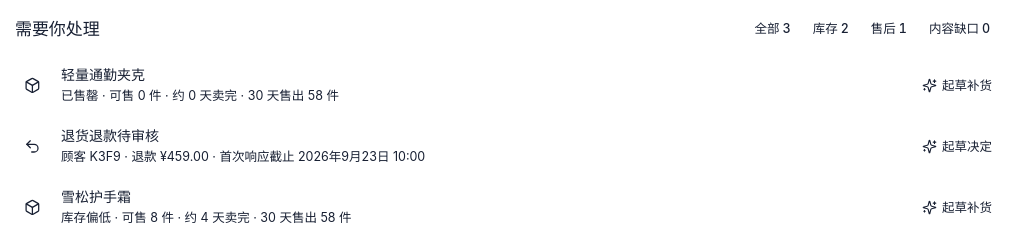
Test case: HomeAttention › 某一类没有事项时显示空态
Click the button with test id "attention-filter-gap".
click(959, 29)  # box x1=919 y1=16 x2=1000 y2=42
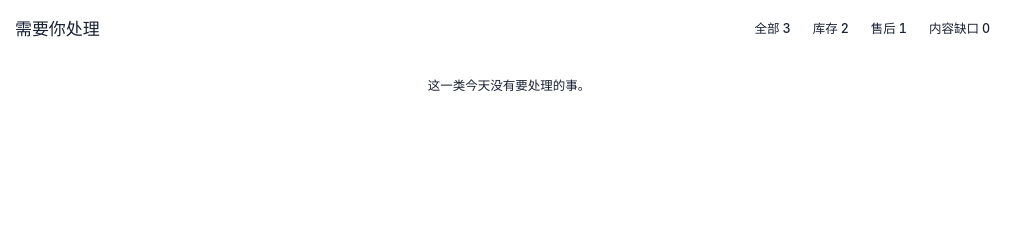
Check: the text with test id "attention-empty" shows "没有要处理的事", box x1=428 y1=78 x2=590 y2=93
